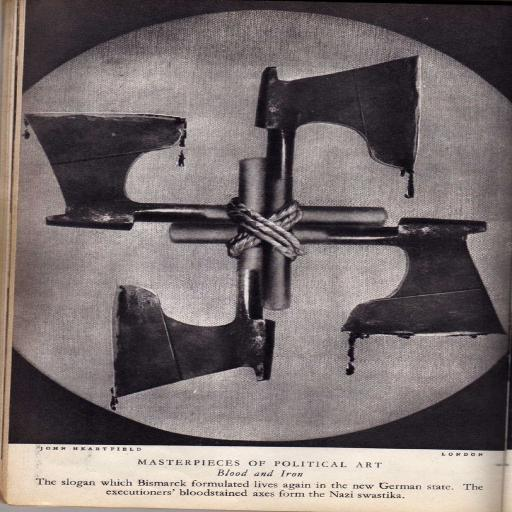Axe: (44, 56, 504, 406)
